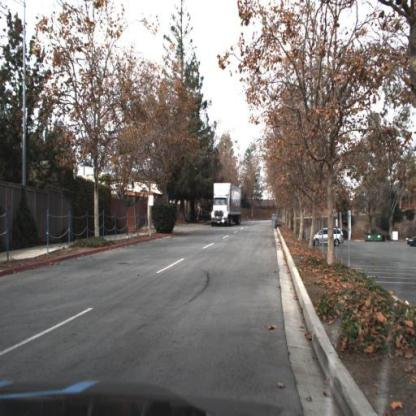car: (311, 226, 345, 249), (406, 233, 416, 248)
truck: (210, 182, 244, 226)
